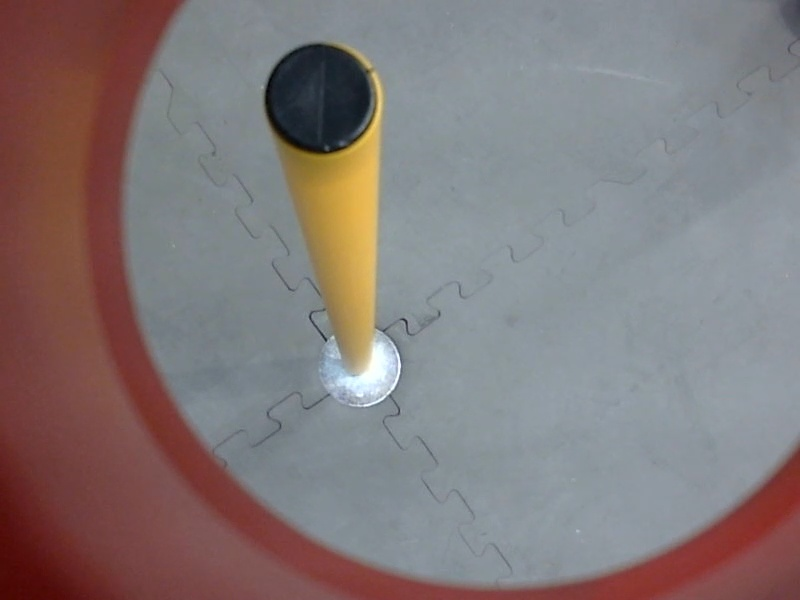tip: (255, 31, 387, 167)
